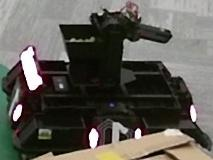armor_1: (90, 128, 141, 148)
light: (21, 47, 43, 92)
right_1: (98, 118, 133, 147)
